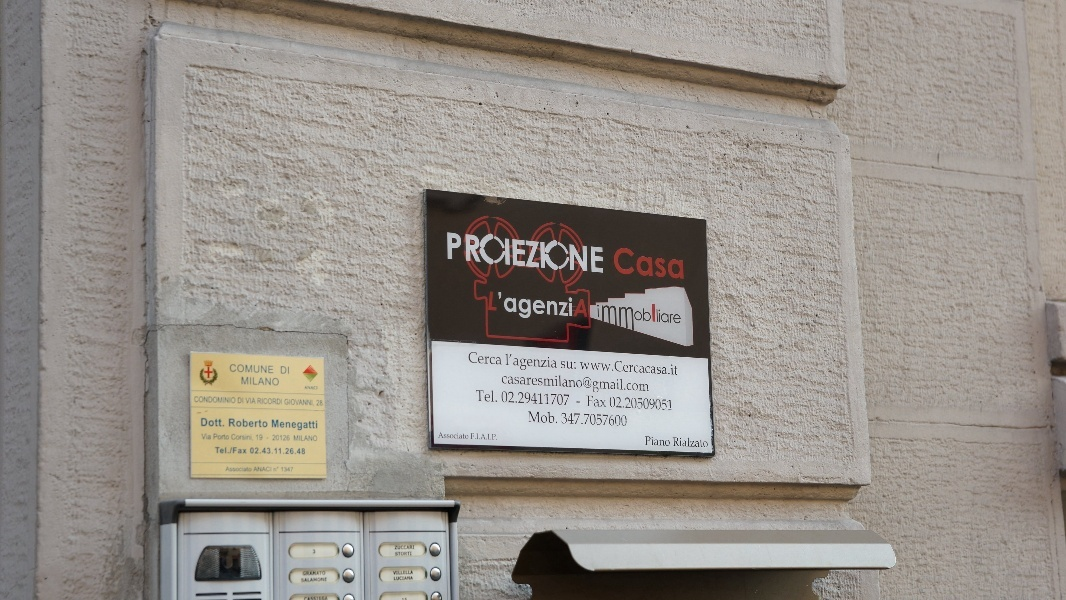text: (449, 231, 464, 274), (465, 231, 480, 274), (481, 231, 496, 274), (497, 231, 512, 274), (513, 231, 528, 274), (529, 231, 544, 274), (545, 231, 560, 274), (561, 231, 576, 274), (577, 231, 592, 274), (625, 245, 640, 280), (641, 245, 656, 280), (657, 245, 672, 280), (593, 231, 604, 274), (609, 305, 624, 336), (625, 305, 640, 336), (497, 291, 512, 319), (513, 291, 528, 319), (529, 291, 544, 319), (545, 291, 560, 319), (561, 291, 576, 319), (673, 245, 684, 280), (614, 245, 624, 280), (641, 305, 652, 336), (598, 305, 608, 336), (577, 291, 588, 319), (513, 354, 528, 372), (529, 354, 544, 372), (593, 359, 608, 376), (609, 359, 624, 376), (625, 359, 640, 376), (641, 359, 656, 376), (657, 359, 672, 376), (545, 354, 558, 372), (609, 379, 624, 394), (513, 391, 528, 406), (529, 391, 544, 406), (545, 391, 560, 406), (657, 309, 672, 324), (579, 359, 592, 376), (481, 351, 496, 365), (513, 374, 528, 388), (529, 374, 544, 388), (545, 374, 560, 388), (561, 374, 576, 388), (594, 379, 608, 394), (625, 397, 640, 411), (641, 397, 656, 411), (657, 397, 672, 411), (561, 413, 576, 427), (577, 413, 592, 427), (593, 413, 608, 427), (609, 413, 624, 427), (610, 397, 624, 411), (481, 390, 496, 403), (529, 412, 544, 424), (593, 396, 607, 408), (490, 291, 496, 319), (273, 420, 288, 431), (289, 420, 304, 431), (673, 437, 688, 448), (689, 437, 704, 448), (545, 412, 558, 424), (469, 351, 480, 365), (241, 364, 256, 374), (257, 364, 272, 374), (502, 391, 512, 406), (305, 420, 318, 431), (502, 374, 512, 388), (657, 436, 671, 446), (241, 377, 256, 386), (257, 377, 272, 386), (241, 419, 256, 428), (561, 361, 576, 370), (561, 391, 570, 406), (673, 309, 682, 324), (209, 419, 225, 427), (627, 383, 640, 392), (645, 436, 656, 446), (506, 354, 512, 372), (583, 377, 592, 389), (209, 396, 224, 403), (289, 399, 304, 406), (257, 448, 272, 455), (273, 448, 288, 455), (289, 448, 304, 455), (449, 433, 464, 440), (481, 433, 496, 440), (230, 364, 240, 374), (229, 419, 240, 428), (257, 419, 268, 428), (241, 434, 255, 441), (195, 396, 208, 403), (273, 435, 288, 441), (673, 359, 678, 376), (258, 398, 272, 404), (497, 351, 503, 365), (577, 374, 583, 388), (641, 383, 650, 392), (257, 435, 270, 441), (305, 436, 318, 442), (225, 396, 236, 403), (257, 467, 272, 472), (305, 571, 320, 576), (305, 399, 315, 406), (274, 467, 288, 472), (227, 467, 240, 472), (215, 447, 224, 454), (471, 433, 480, 440), (305, 386, 320, 390), (246, 398, 256, 404), (273, 398, 283, 404), (214, 434, 224, 440), (294, 436, 304, 442), (305, 578, 320, 582), (587, 396, 592, 408), (201, 419, 208, 427), (232, 434, 240, 441), (401, 546, 415, 550), (241, 467, 252, 472), (273, 377, 279, 386), (231, 448, 240, 454), (401, 571, 414, 575), (401, 577, 414, 581), (476, 390, 480, 403), (281, 367, 288, 374), (441, 433, 448, 440), (401, 552, 412, 556), (447, 231, 448, 274), (201, 434, 208, 440), (233, 448, 240, 454), (250, 448, 256, 455), (241, 448, 247, 454), (327, 596, 336, 600), (225, 447, 230, 454), (281, 467, 288, 472), (705, 437, 708, 448), (225, 434, 230, 440), (625, 379, 627, 394), (465, 433, 469, 440), (393, 571, 400, 575), (625, 413, 627, 427), (289, 467, 294, 472), (321, 571, 326, 576), (321, 578, 327, 582), (394, 577, 400, 581), (285, 399, 288, 406), (236, 467, 240, 472), (395, 546, 400, 550), (317, 400, 320, 406), (209, 434, 212, 440), (396, 552, 400, 556), (241, 398, 244, 403), (577, 402, 592, 403), (673, 397, 674, 411), (497, 390, 498, 403), (321, 400, 323, 406), (301, 578, 304, 582), (273, 364, 274, 374), (238, 398, 240, 403), (289, 367, 290, 374), (305, 448, 306, 455), (497, 433, 498, 440), (289, 435, 290, 441), (255, 467, 256, 472), (303, 571, 304, 576)
